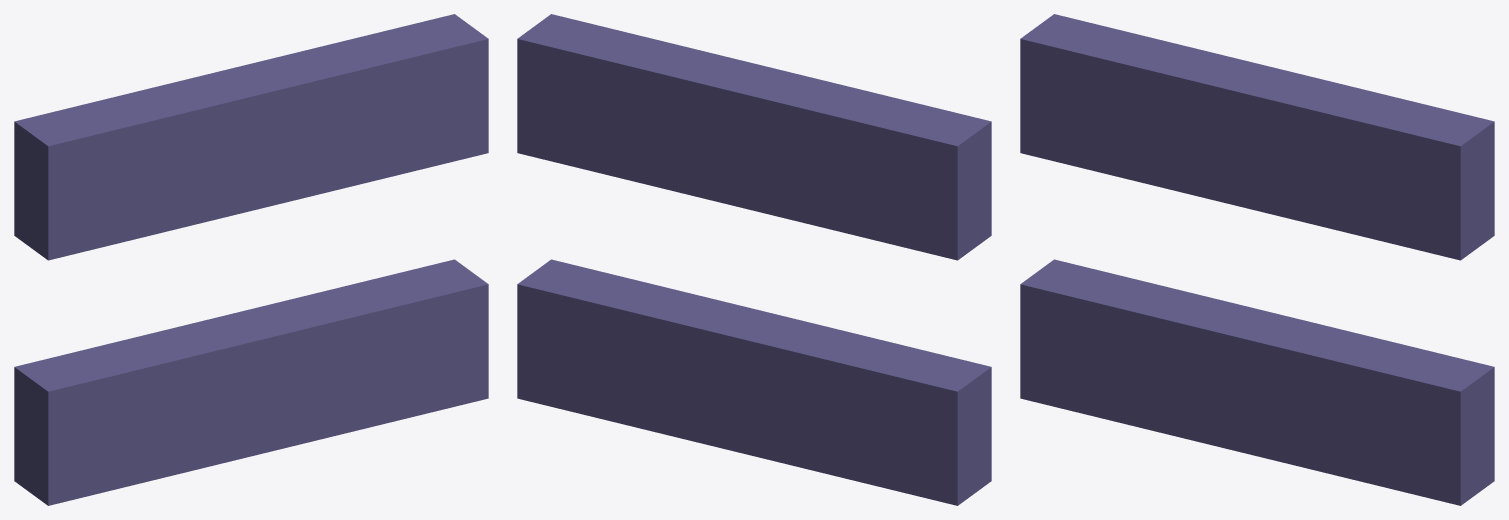
The model's file is equal to sign.fbx.
3 renders of one model, left to right at view 1: azimuth 30°, elevation 25°; view 2: azimuth 150°, elevation 25°; view 3: azimuth 330°, elevation 25°, orthographic.
Parts seen in each view (by area): view 1: polySurface1; view 2: polySurface1; view 3: polySurface1.
Part boxes in pixels (<box>): polySurface1: <box>14,14,488,505</box>; polySurface1: <box>517,14,991,505</box>; polySurface1: <box>1020,14,1494,505</box>.
Bounding box in the file's own units: 4.03 × 3.15 × 0.5392.
